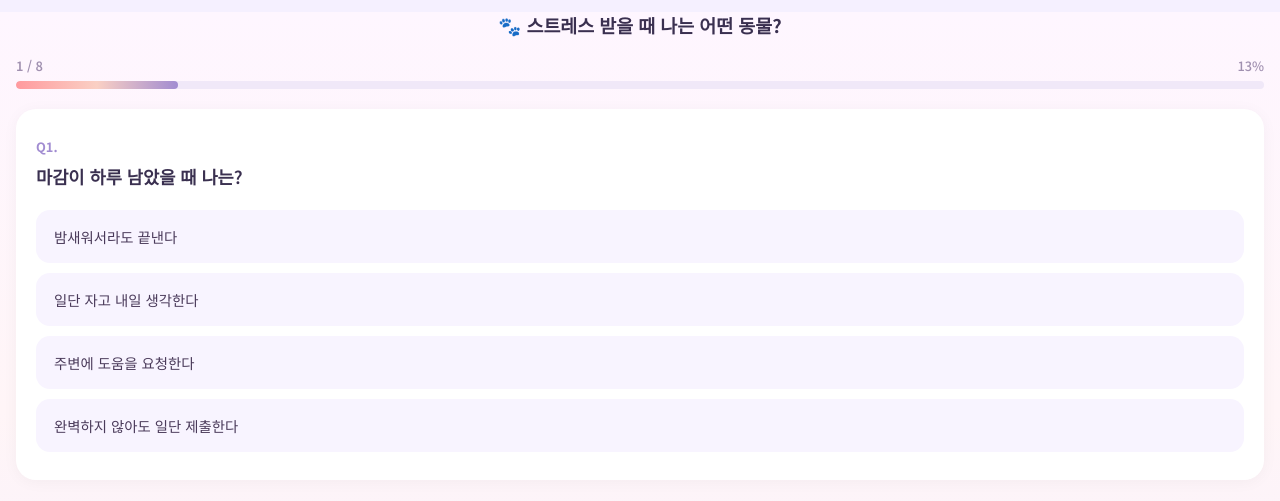
QuizPage › 선택지를 클릭하면 다음 질문으로 이동한다
Check: the text "Q1." is shown, box left=36, top=137, right=58, bottom=156
Step 1. Click the button "밤새워서라도 끝낸다" → (116, 237), box left=36, top=210, right=1244, bottom=263
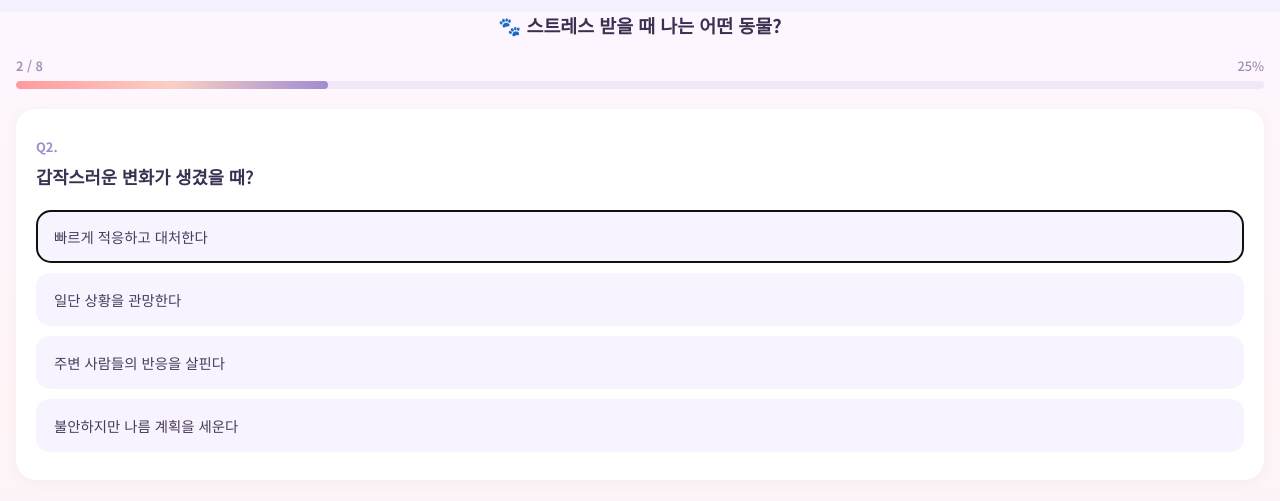
Check: the text "Q2." is shown, box left=36, top=137, right=58, bottom=156
